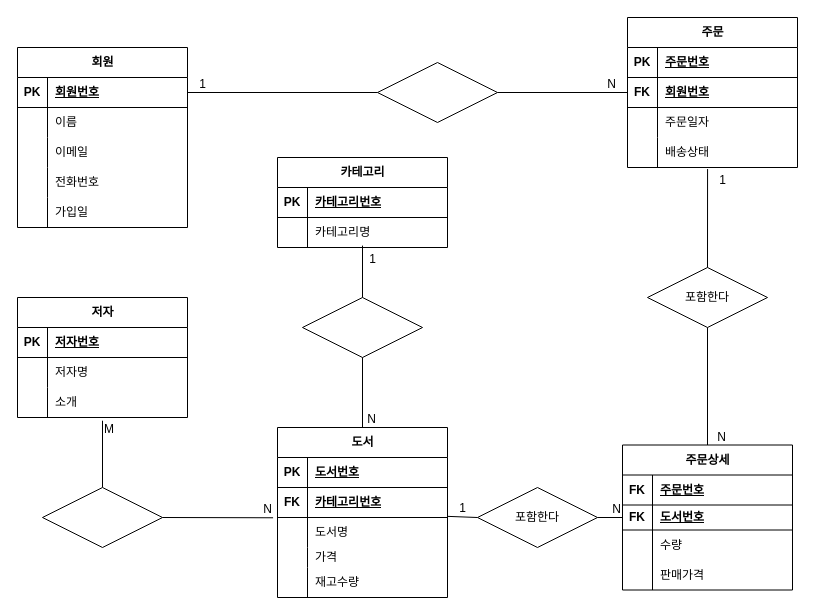
The diagram is 815 pixels wide and 615 high, and some of its shapes have lost their labels. The centre of each missing label's shape, as x and y in pixels:
"분류한다" belongs at (x=362, y=327).
"저술한다" belongs at (x=102, y=517).
"주문하다" belongs at (x=437, y=92).
